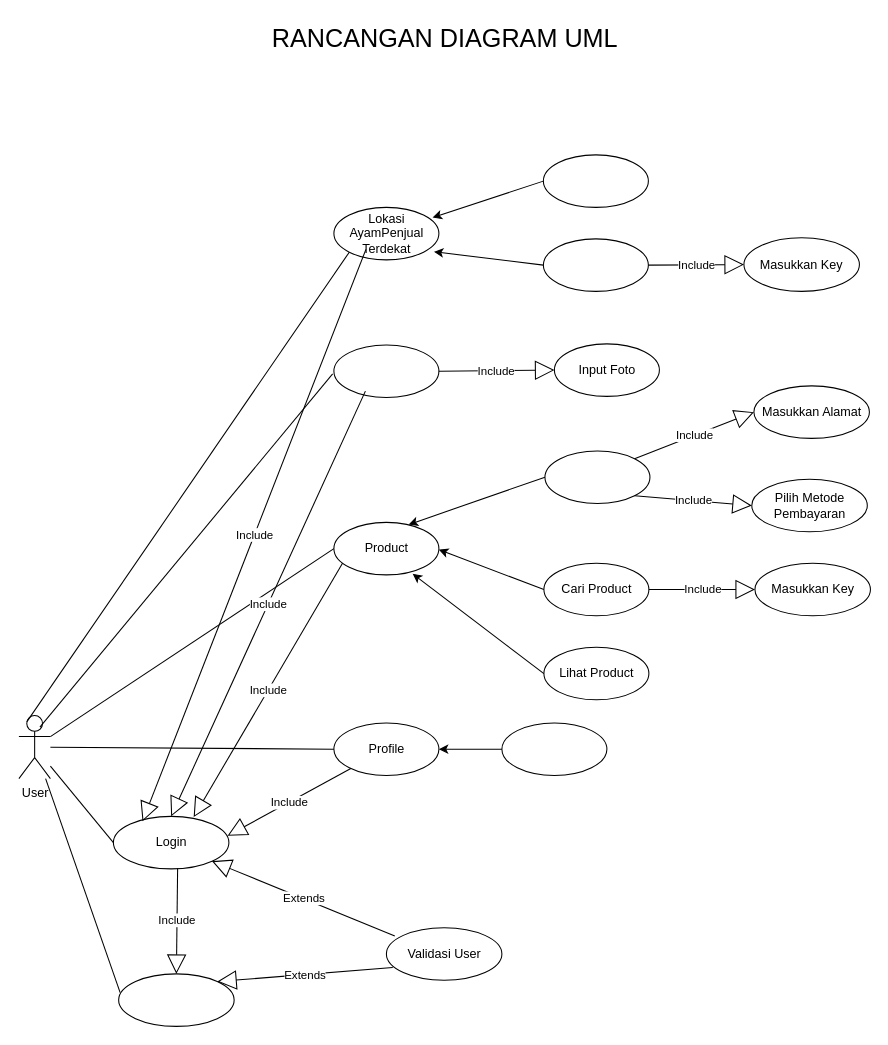
Image size: 888x1045. Some labels were removed from this diagram. Here are the shapes that lost their labels. From the top down, the centre of each, then its label:
point (595, 180): Lihat Lokasi
point (595, 264): Cari Lokasi
point (386, 370): Scan Foto
point (597, 476): Beli Product
point (554, 748): Update data
point (176, 999): Registrasi
